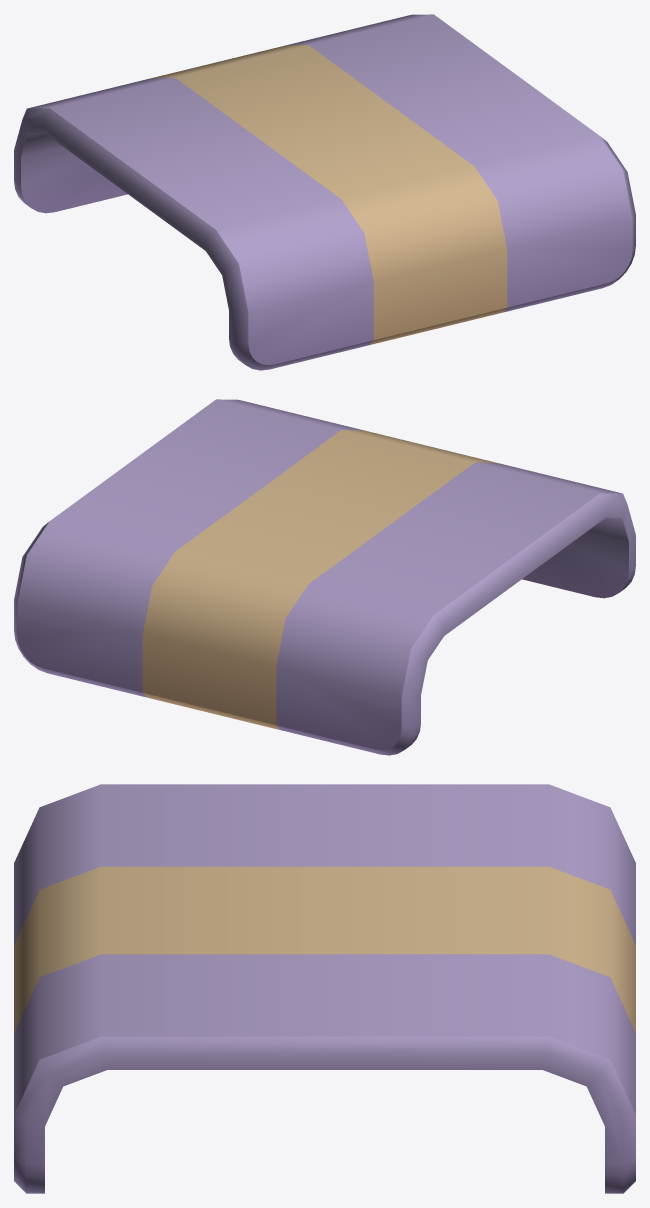
The model's file is cover-tricolor-single.glb.
3 renders of one model, top to bottom at view 1: azimuth 30°, elevation 25°; view 2: azimuth 150°, elevation 25°; view 3: azimuth 270°, elevation 25°, orthographic. The views are drawn at different scales.
Visible parts, largest first — view 1: cover-tricolor-single; view 2: cover-tricolor-single; view 3: cover-tricolor-single.
Boxes of the visible parts, <box> form: cover-tricolor-single: <box>14,14,635,370</box>; cover-tricolor-single: <box>14,399,635,755</box>; cover-tricolor-single: <box>14,784,635,1193</box>.
Size of the model in its own units: 1 by 0.3 by 1.
